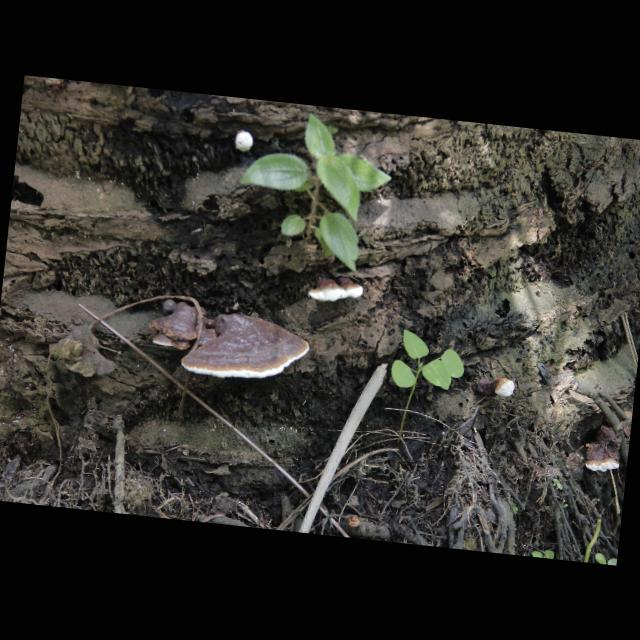ganoderma: (179, 309, 312, 388), (146, 298, 209, 354), (583, 424, 625, 476), (308, 273, 366, 308)
primordium: (492, 378, 516, 400), (234, 130, 255, 154)
